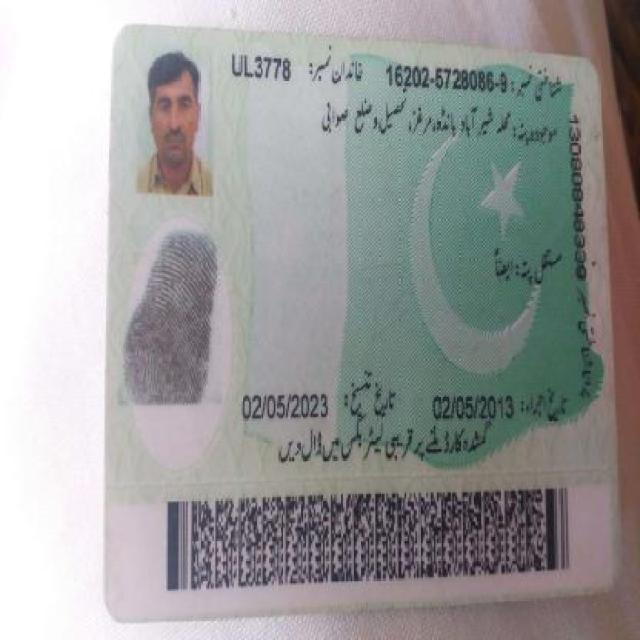Back: (95, 15, 620, 608)
